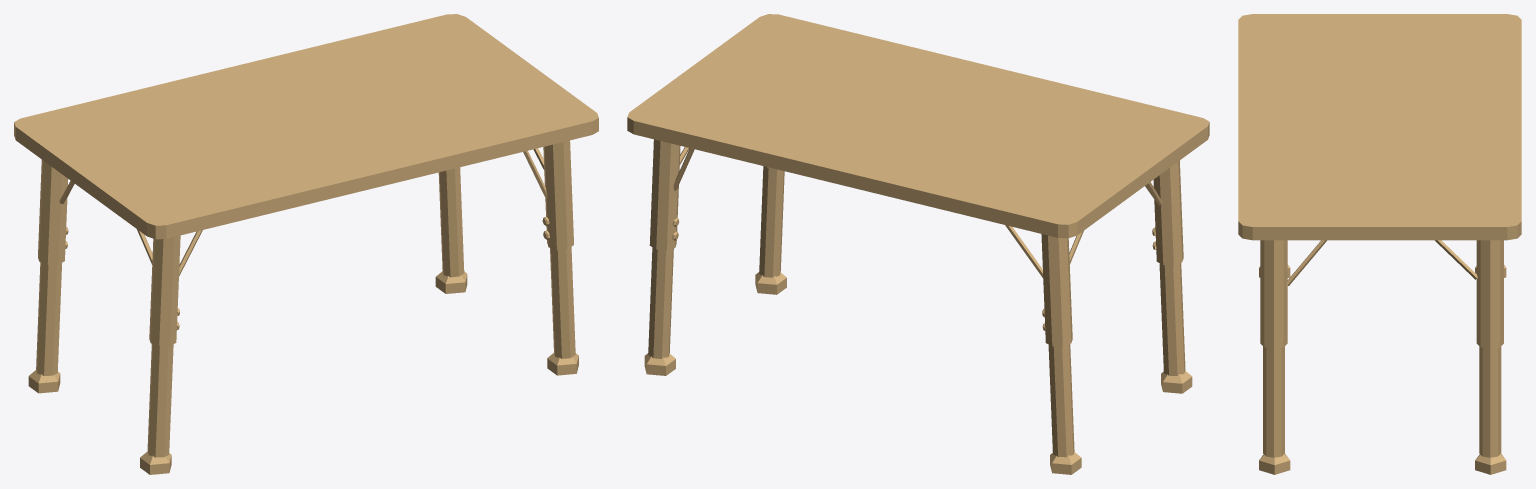
File: table_rectangle.fbx
3 views of the same model, side by side, from view 1: azimuth 30°, elevation 25°; view 2: azimuth 150°, elevation 25°; view 3: azimuth 270°, elevation 25° (orthographic). The views are drawn at different scales.
Visible parts, largest first — view 1: table_rectangle; view 2: table_rectangle; view 3: table_rectangle.
Boxes of the visible parts, bbox=[...] form: table_rectangle: bbox=[14, 14, 598, 474]; table_rectangle: bbox=[627, 14, 1209, 474]; table_rectangle: bbox=[1238, 14, 1521, 474].
Size of the model in its own units: 177 by 97.22 by 99.28.
